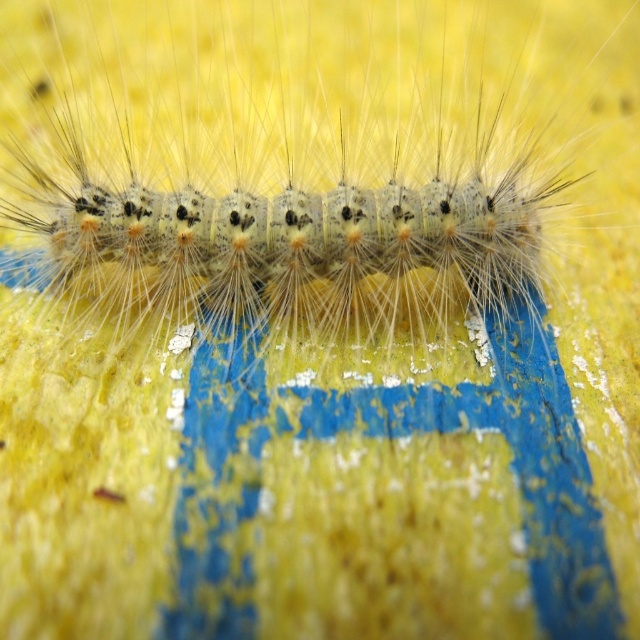Caterpillar: (0, 0, 638, 410)
